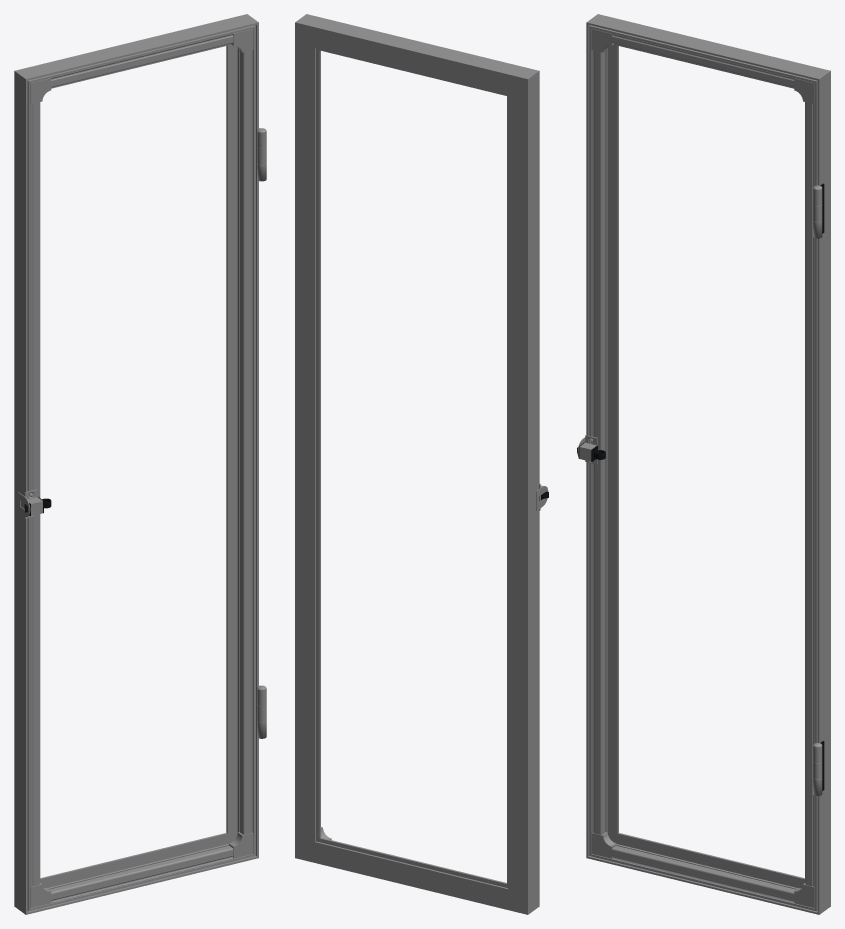
3 views of the same model, side by side, from view 1: azimuth 30°, elevation 25°; view 2: azimuth 150°, elevation 25°; view 3: azimuth 330°, elevation 25° (orthographic).
Visible parts, largest first — view 1: Rectangle2038, Rectangle2037; view 2: Rectangle2037, Rectangle2038; view 3: Rectangle2038, Rectangle2037.
Part boxes in pixels (bbox=[...]): Rectangle2038: bbox=[27, 25, 255, 911]; Rectangle2037: bbox=[14, 14, 258, 914]; Rectangle2037: bbox=[295, 14, 539, 914]; Rectangle2038: bbox=[316, 48, 507, 887]; Rectangle2038: bbox=[589, 25, 817, 911]; Rectangle2037: bbox=[586, 14, 830, 914].
Bounding box in the file's own units: 365 × 1200 × 46.41.
4 materials, 2 textured.
